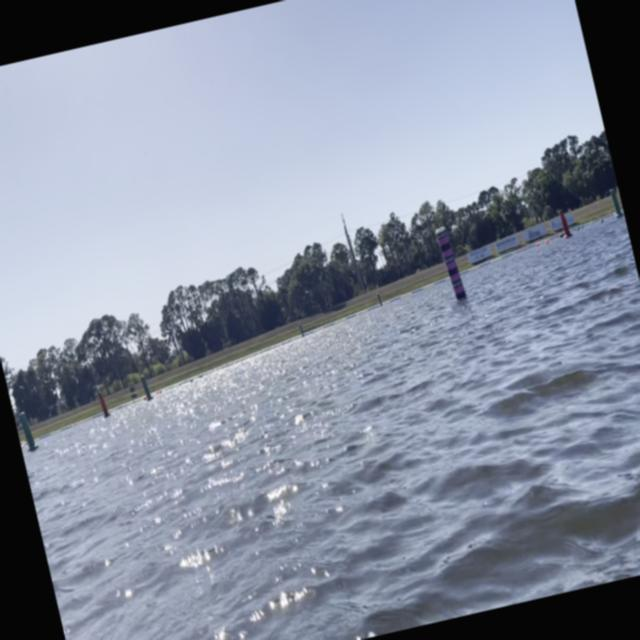buoy: (95, 390, 112, 420), (138, 371, 154, 402), (558, 208, 571, 238)
